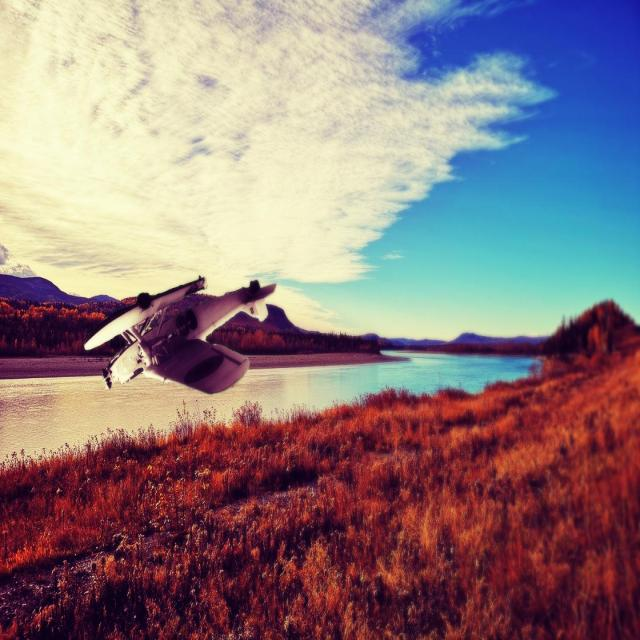airplane: (83, 275, 277, 393)
